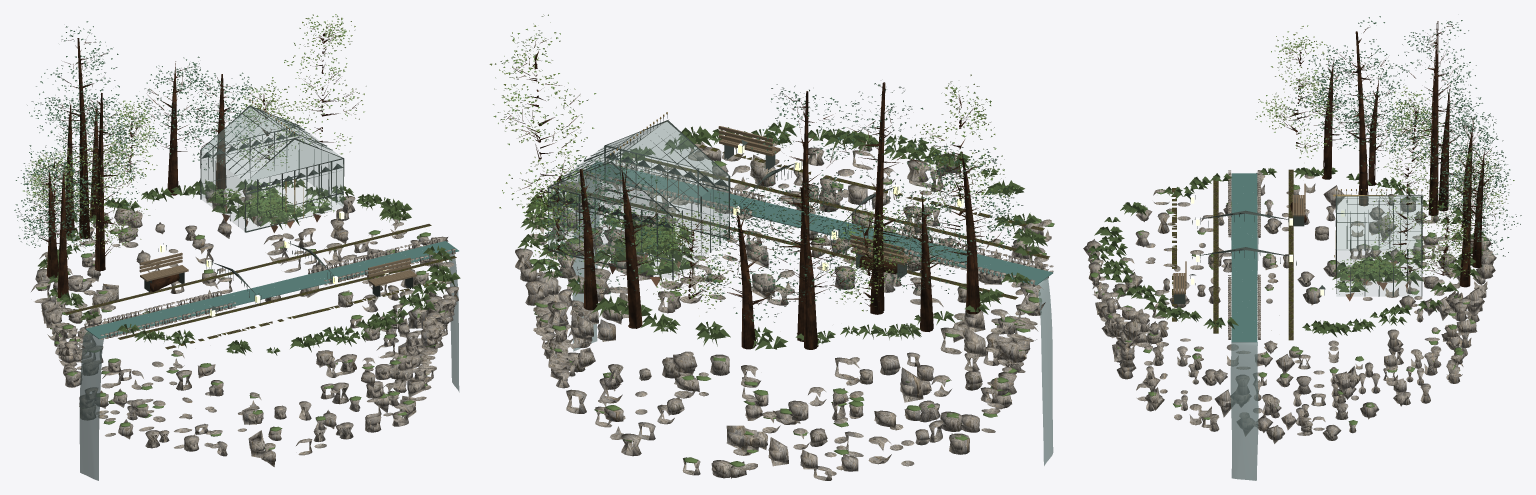
The model's file is room.glb.
The picture shows the model from 3 angles, left to right: view 1: azimuth 30°, elevation 25°; view 2: azimuth 150°, elevation 25°; view 3: azimuth 270°, elevation 25°; orthographic projection. The views are drawn at different scales.
Visible parts, largest first — view 1: Mistwood_Stratified_cliff, Mistwood_Conservatory_glass, Mistwood_Moss, Mistwood_Weathered_limestone, Mistwood_Cedar_bark, Mistwood_Cedar_sprays, Mistwood_Patinated_iron, Mistwood_River_water, Mistwood_Birch_leaves, Mistwood_Young_leaves, Mistwood_waterfall_Waterfall_silver_stream, Mistwood_Forest_floor (+2 smaller); view 2: Mistwood_Stratified_cliff, Mistwood_Cedar_bark, Mistwood_Weathered_limestone, Mistwood_Moss, Mistwood_Conservatory_glass, Mistwood_Cedar_sprays, Mistwood_Patinated_iron, Mistwood_River_water, Mistwood_Birch_leaves, Mistwood_Young_leaves, Mistwood_Forest_floor, Mistwood_waterfall_Waterfall_silver_stream (+2 smaller); view 3: Mistwood_Stratified_cliff, Mistwood_Cedar_bark, Mistwood_Moss, Mistwood_Weathered_limestone, Mistwood_Conservatory_glass, Mistwood_Cedar_sprays, Mistwood_River_water, Mistwood_waterfall_Waterfall_silver_stream.001, Mistwood_Birch_leaves, Mistwood_Young_leaves, Mistwood_Patinated_iron, Mistwood_Forest_floor (+1 smaller).
Part boxes in pixels (x1,y1,x2,y2): Mistwood_Stratified_cliff: (35, 188, 458, 466); Mistwood_Conservatory_glass: (201, 107, 343, 230); Mistwood_Moss: (36, 178, 460, 449); Mistwood_Weathered_limestone: (31, 187, 455, 462); Mistwood_Cedar_bark: (23, 24, 360, 298); Mistwood_Cedar_sprays: (14, 21, 266, 254); Mistwood_Patinated_iron: (144, 105, 412, 317); Mistwood_River_water: (85, 241, 458, 339); Mistwood_Birch_leaves: (23, 14, 366, 252); Mistwood_Young_leaves: (24, 14, 364, 252); Mistwood_waterfall_Waterfall_silver_stream: (79, 330, 104, 480); Mistwood_Forest_floor: (64, 224, 456, 349); Mistwood_Stratified_cliff: (515, 141, 1048, 480); Mistwood_Cedar_bark: (504, 39, 1001, 349); Mistwood_Weathered_limestone: (533, 140, 1053, 478); Mistwood_Moss: (518, 121, 1054, 466); Mistwood_Conservatory_glass: (549, 121, 728, 278); Mistwood_Cedar_sprays: (536, 83, 1023, 322); Mistwood_Patinated_iron: (547, 115, 963, 280); Mistwood_River_water: (583, 161, 1053, 285); Mistwood_Birch_leaves: (493, 14, 1014, 308); Mistwood_Young_leaves: (489, 14, 1013, 312); Mistwood_Forest_floor: (554, 143, 1049, 299); Mistwood_waterfall_Waterfall_silver_stream: (1036, 277, 1053, 465); Mistwood_Stratified_cliff: (1083, 174, 1496, 443); Mistwood_Cedar_bark: (1271, 21, 1499, 287); Mistwood_Moss: (1087, 167, 1487, 425); Mistwood_Weathered_limestone: (1088, 170, 1491, 433); Mistwood_Conservatory_glass: (1337, 196, 1421, 295); Mistwood_Cedar_sprays: (1283, 16, 1521, 266); Mistwood_River_water: (1231, 173, 1257, 342); Mistwood_waterfall_Waterfall_silver_stream.001: (1230, 339, 1258, 480); Mistwood_Birch_leaves: (1255, 25, 1514, 294); Mistwood_Young_leaves: (1258, 26, 1507, 296); Mistwood_Patinated_iron: (1174, 191, 1422, 303); Mistwood_Forest_floor: (1172, 169, 1293, 340).
Size of the model in its own units: 16.87 by 14.31 by 16.93.
Materials: 19 (4 with a texture image).
